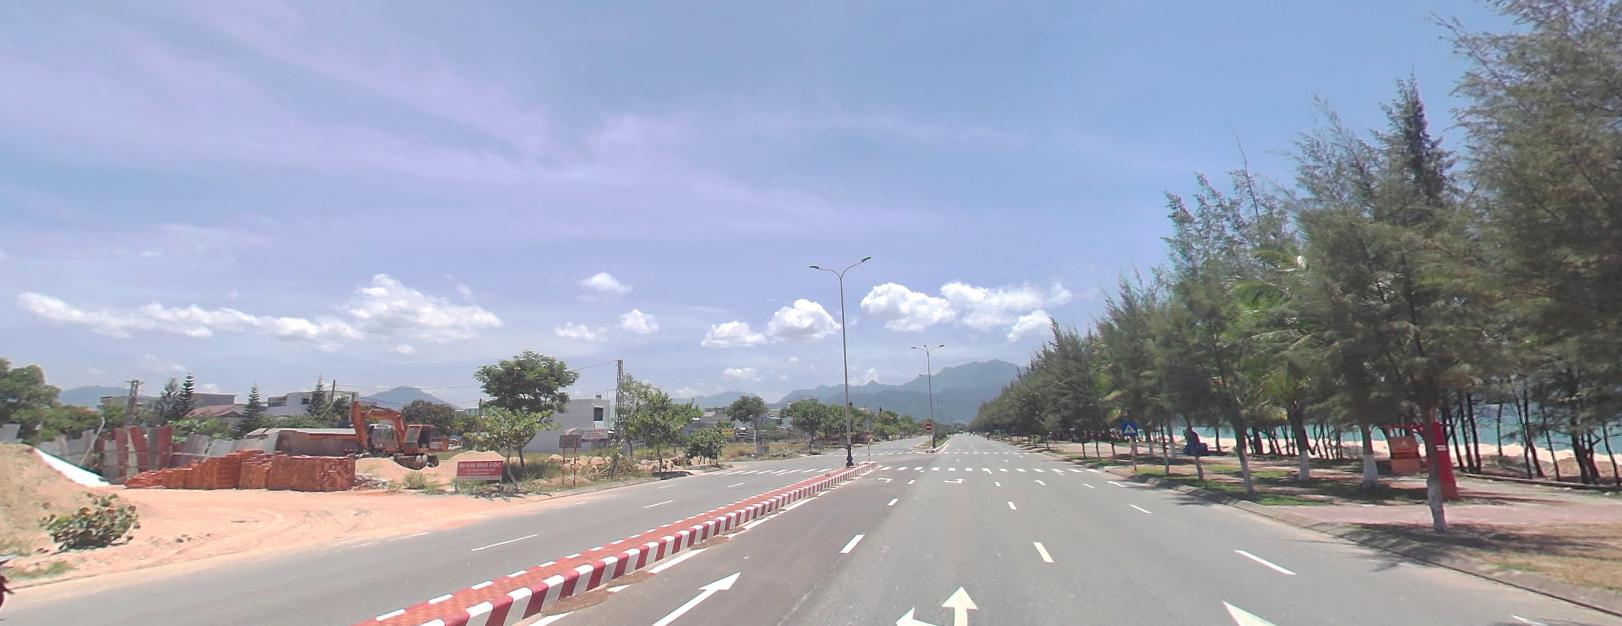Cam nguoc chieu: (925, 421, 932, 428), (924, 421, 931, 427)
